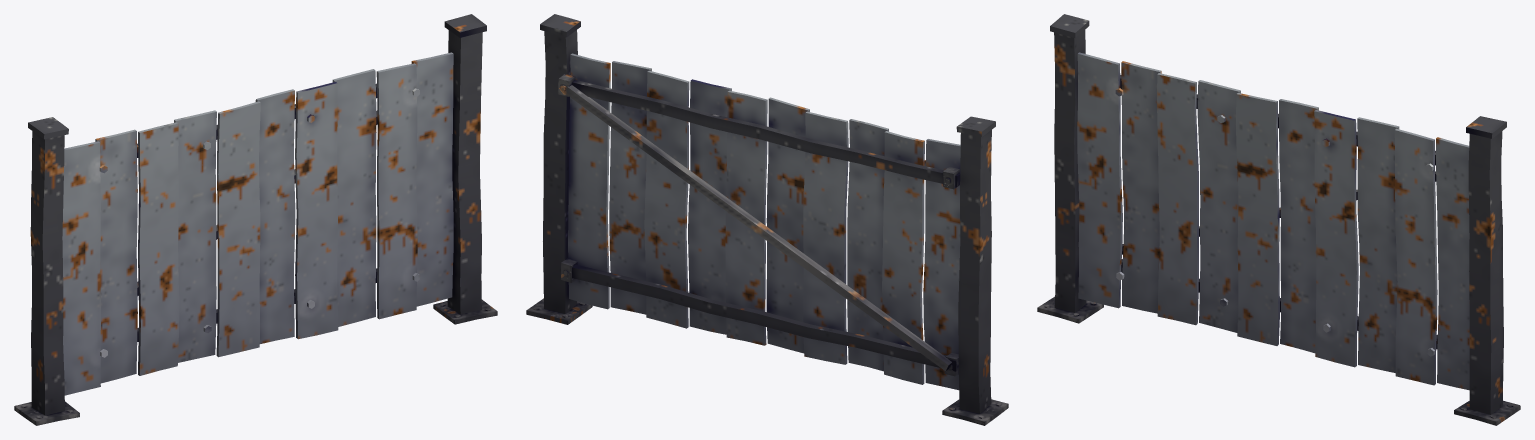
Rendered from YardFence.glb.
3 views of the same model, side by side, from view 1: azimuth 30°, elevation 25°; view 2: azimuth 150°, elevation 25°; view 3: azimuth 330°, elevation 25° (orthographic).
Parts seen in each view (by area): view 1: Sheets, Posts, Fittings; view 2: Sheets, Posts, Fittings; view 3: Sheets, Posts, Fittings.
Boxes of the visible parts, x1,y1,x2,y2 form: Sheets: [62, 52, 453, 395]; Posts: [28, 14, 486, 415]; Fittings: [14, 299, 497, 425]; Sheets: [568, 53, 960, 390]; Posts: [540, 14, 995, 413]; Fittings: [526, 74, 1008, 425]; Sheets: [1077, 52, 1469, 390]; Posts: [1050, 14, 1506, 414]; Fittings: [1037, 296, 1520, 425].
Bounding box in the file's own units: 8.86 × 5.32 × 0.8586.
Materials: 3 (3 with a texture image).
